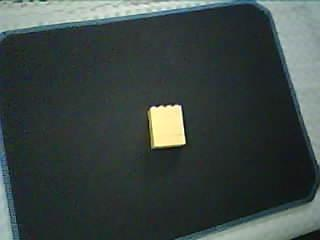lego: (146, 102, 186, 150)
